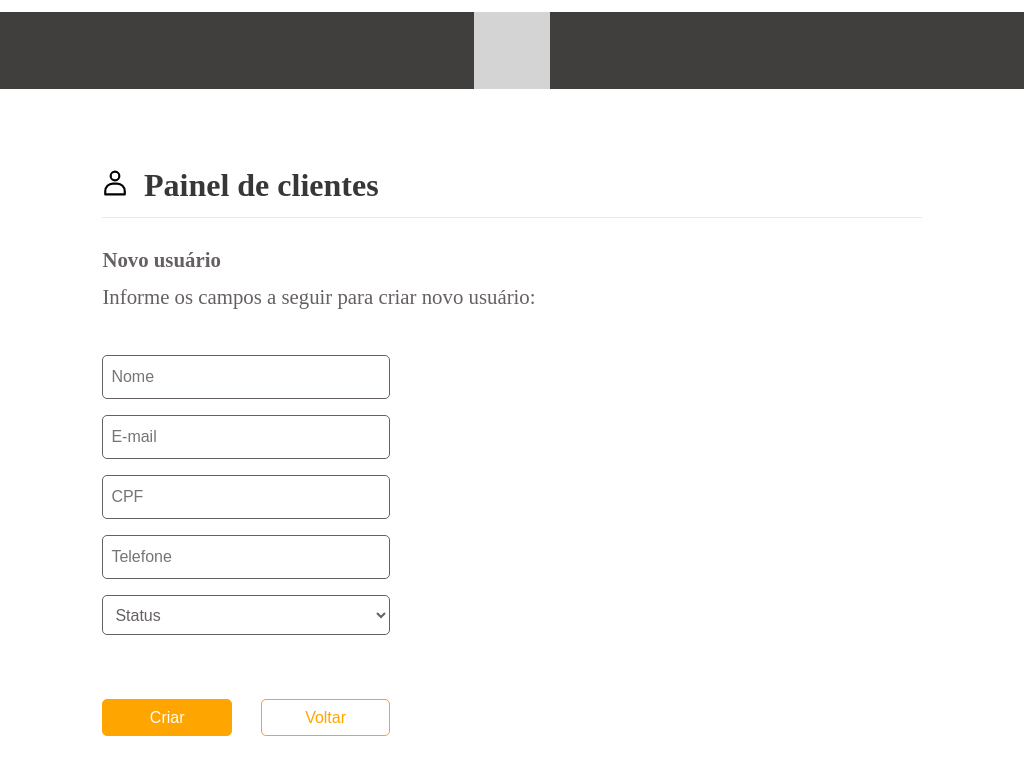
Test case: Testando a página de criar usuário › Testa se o botão de criar usuário funciona corretamente
This screenshot has width=1024, height=780.
Step 1. Type "José" into the field with placeholder "Nome" → (246, 377), box [102, 355, 390, 399]
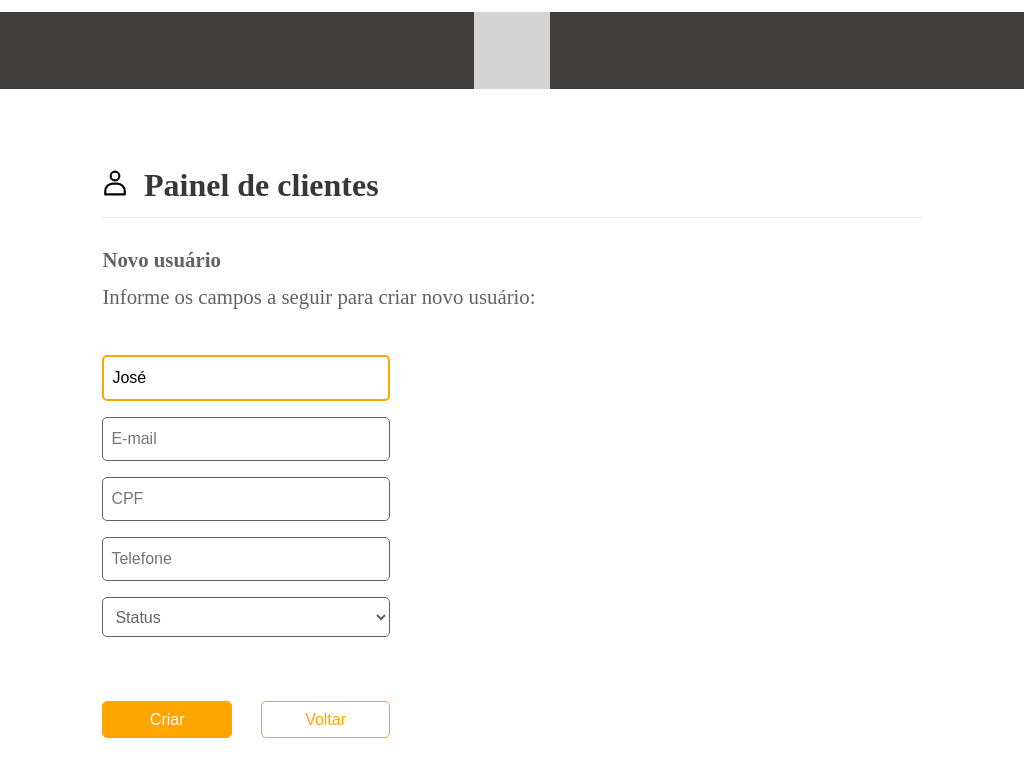
Step 2. Type "jose@uol.com" into the field with placeholder "E-mail" → (246, 439), box [102, 417, 390, 461]
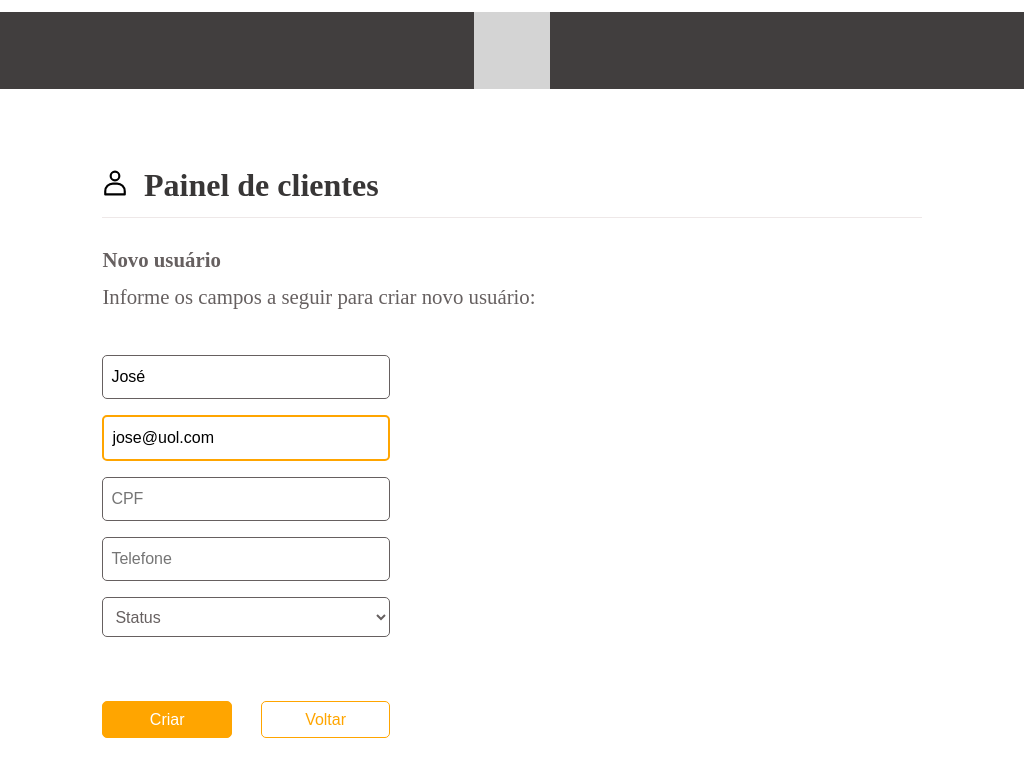
Step 3. Type "12345678900" into the field with placeholder "CPF" → (246, 499), box [102, 477, 390, 521]
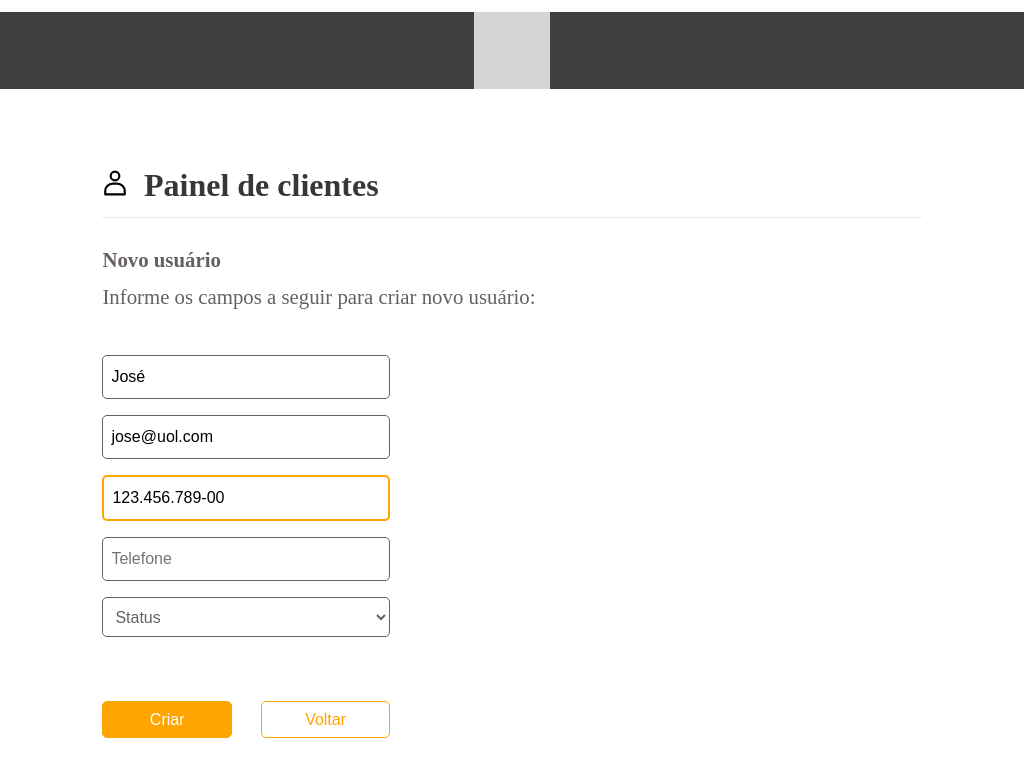
Step 4. Type "1199999999" into the field with placeholder "Telefone" → (246, 559), box [102, 537, 390, 581]
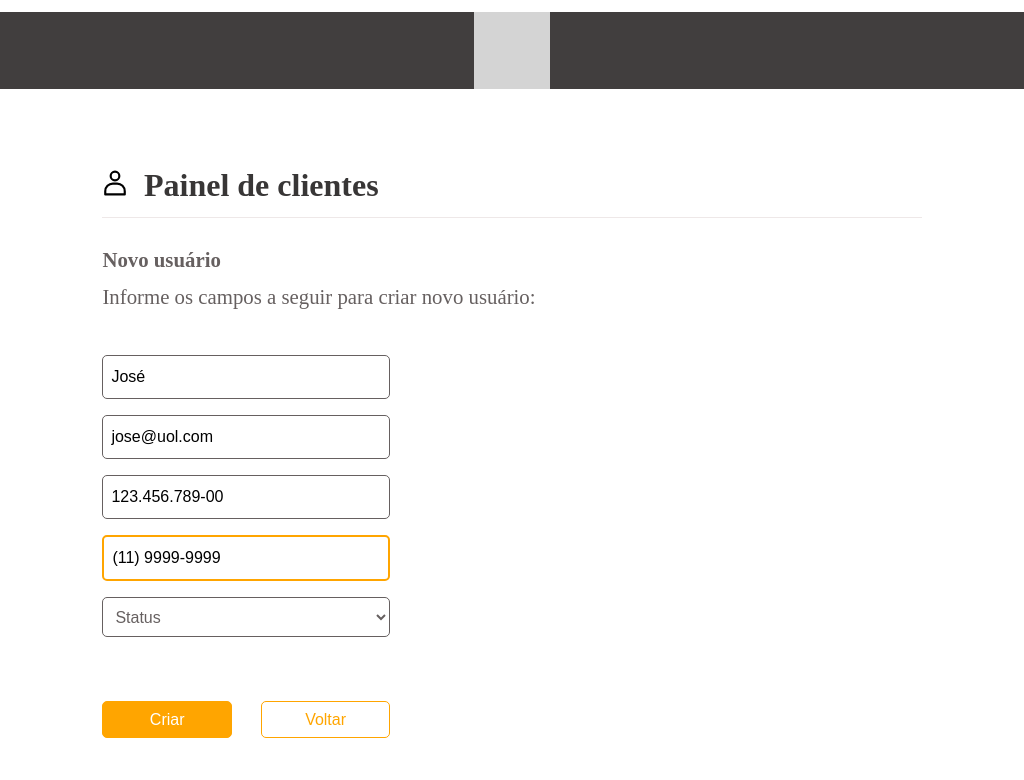
Step 5. Select "Ativo" in the dropdown → (246, 617), box [102, 597, 390, 637]
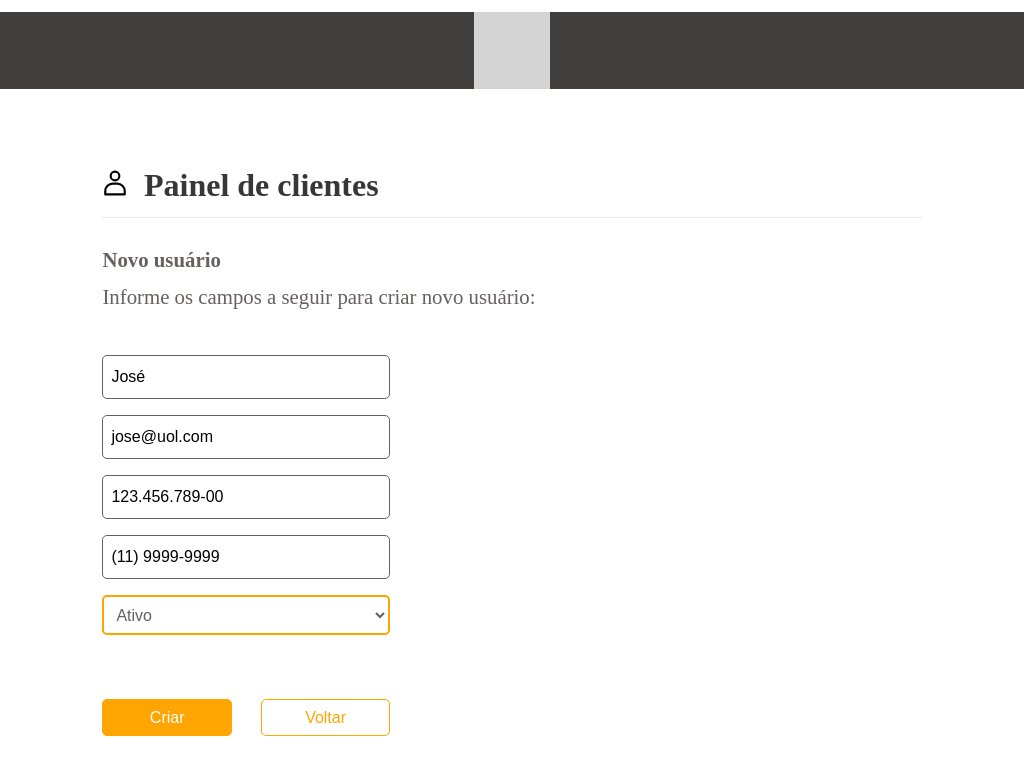
Step 6. Click the button "Criar" → (167, 718), box [102, 699, 232, 736]
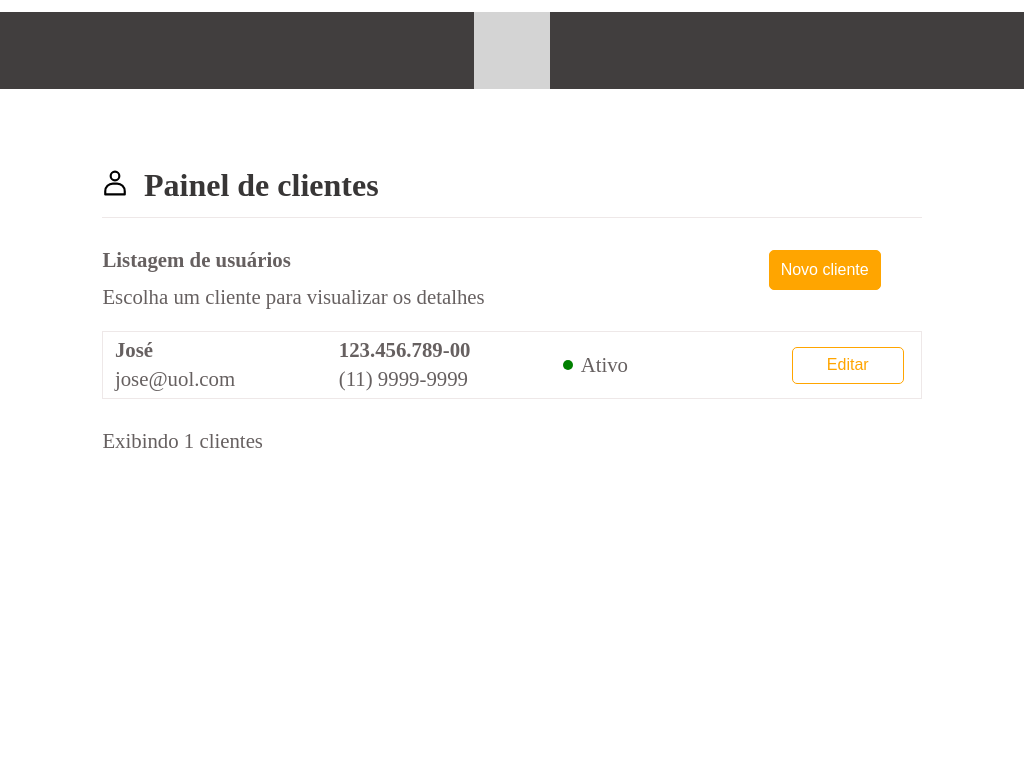
Expected: the heading "Listagem de usuários" is shown, [102, 248, 291, 271]
Expected: the text "jose@uol.com" is shown, [115, 369, 235, 390]
